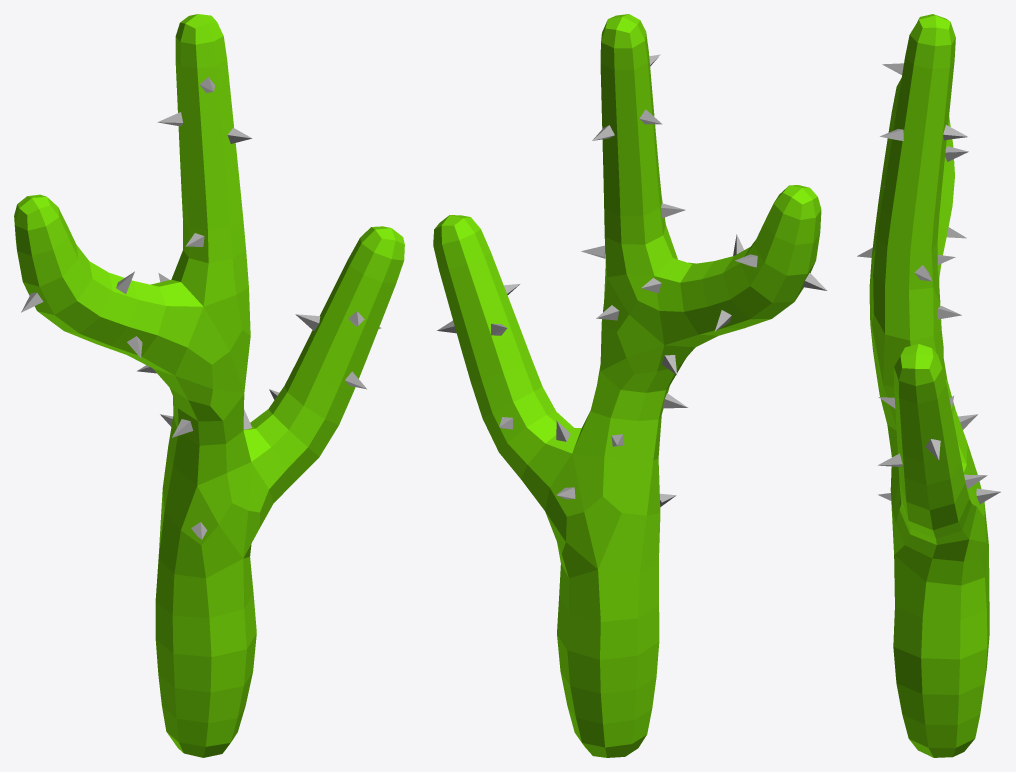
Rendered from cactus6.fbx.
3 renders of one model, left to right at view 1: azimuth 30°, elevation 25°; view 2: azimuth 150°, elevation 25°; view 3: azimuth 270°, elevation 25°, orthographic.
Parts seen in each view (by area): view 1: cactus6, Cone.004; view 2: cactus6, Cone.004; view 3: cactus6, Cone.004.
Boxes of the visible parts, x1,y1,x2,y2 form: cactus6: [14, 14, 404, 757]; Cone.004: [21, 77, 381, 539]; cactus6: [433, 14, 821, 757]; Cone.004: [437, 54, 827, 506]; cactus6: [869, 14, 989, 757]; Cone.004: [857, 63, 1000, 504].
Size of the model in its own units: 154 by 283 by 50.72.
